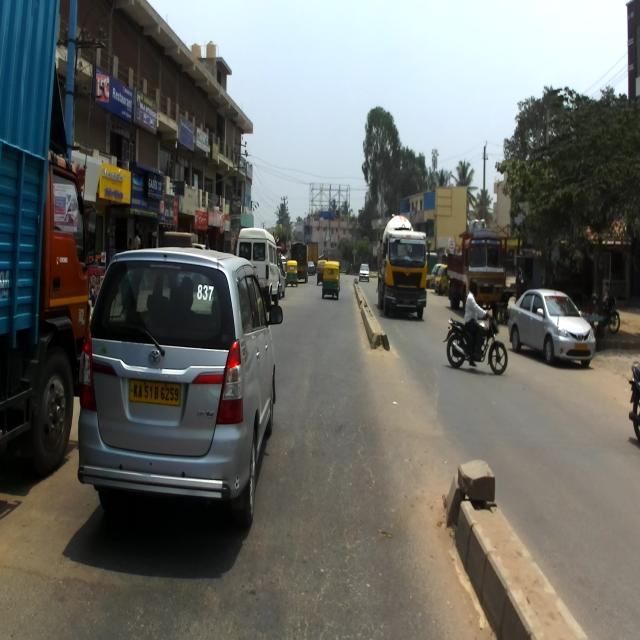car ahead at: (76, 246, 280, 527), (510, 277, 596, 369)
motorcycle ahead at: (445, 315, 507, 374)
